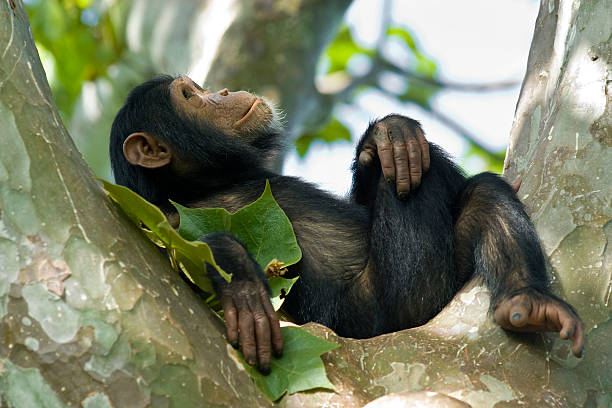chimpanzee: (80, 47, 305, 228)
